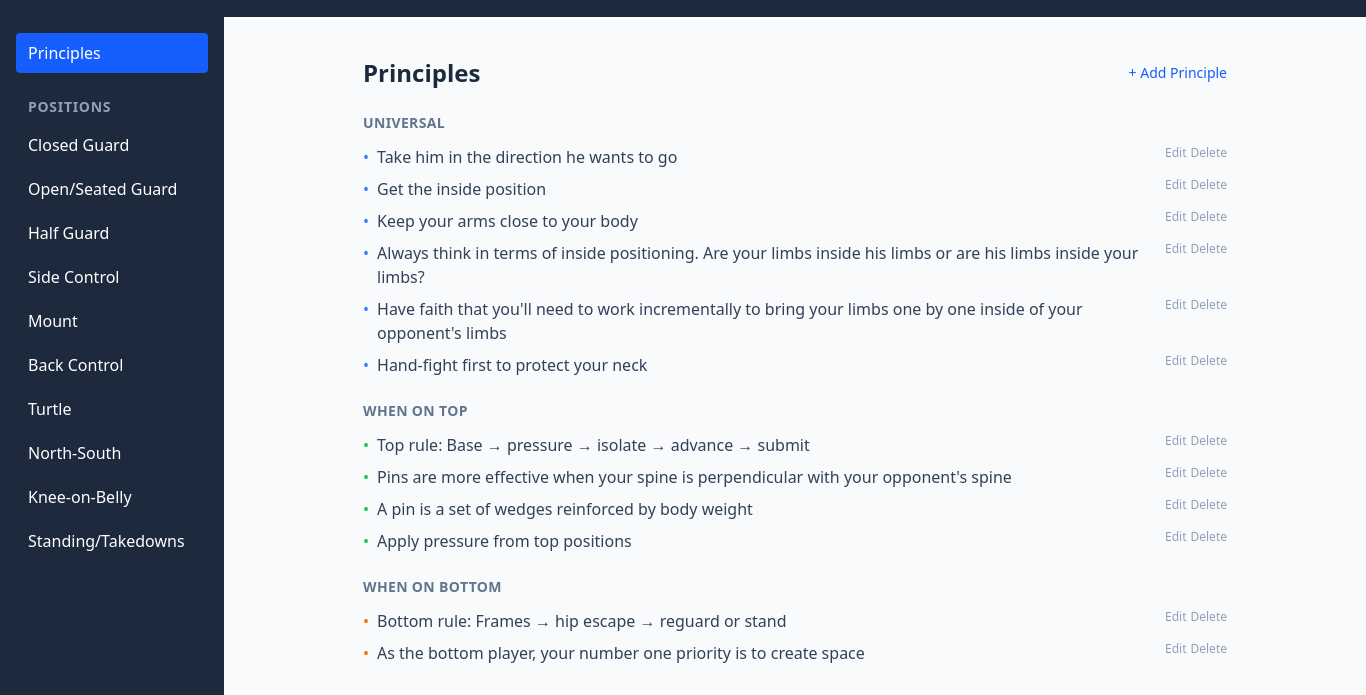
Test: App › adds a technique to a position
The width and height of the screenshot is (1366, 695).
// Go to position view
Click the button "Side Control".
click(112, 277)  # box [16,257,208,297]
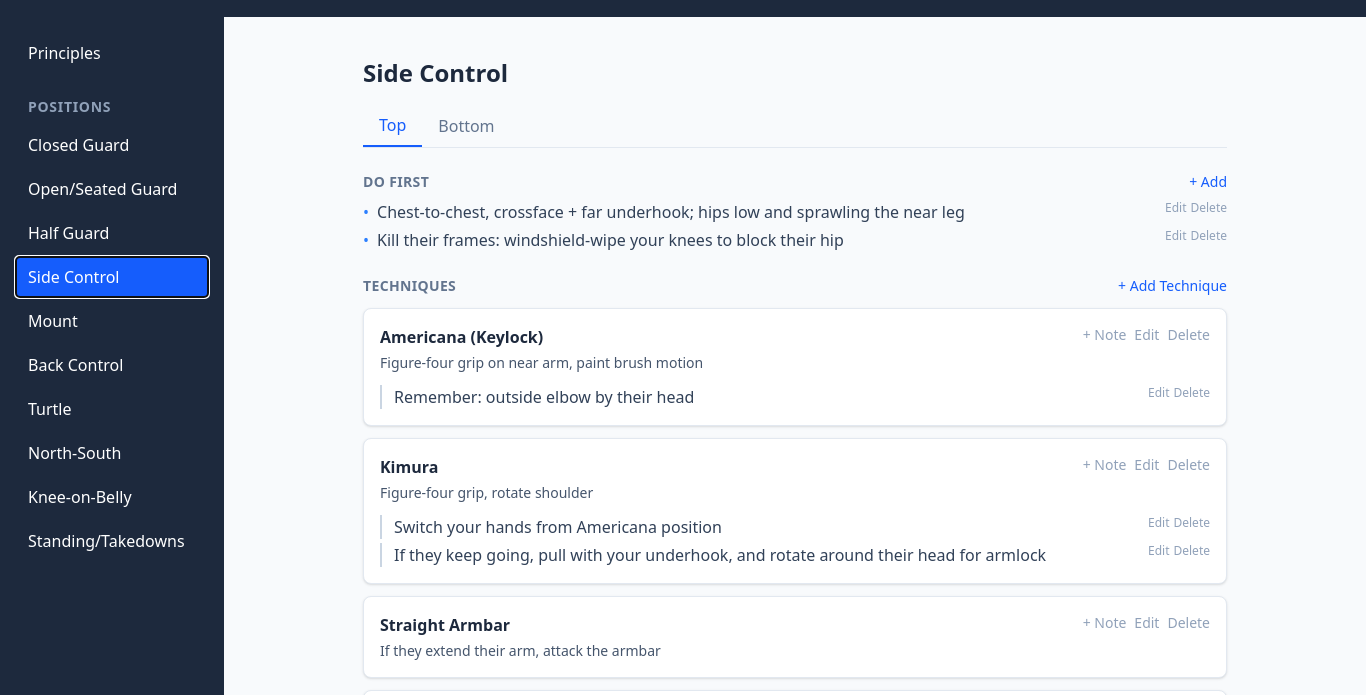
// Add technique
Click the button "+ Add Technique".
click(1172, 286)  # box [1118,276,1227,296]
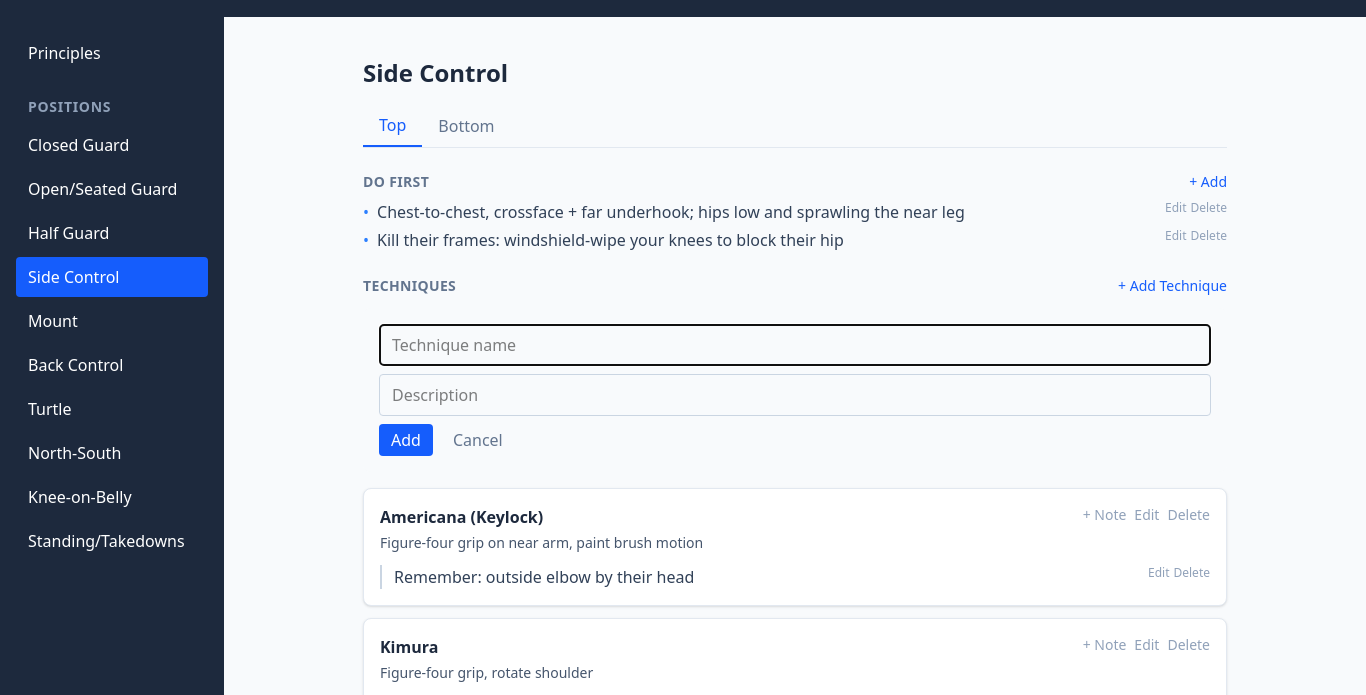
Type "New Submission" into the field with placeholder "Technique name".
click(795, 345); type("New Submission")  # box [379,324,1211,366]
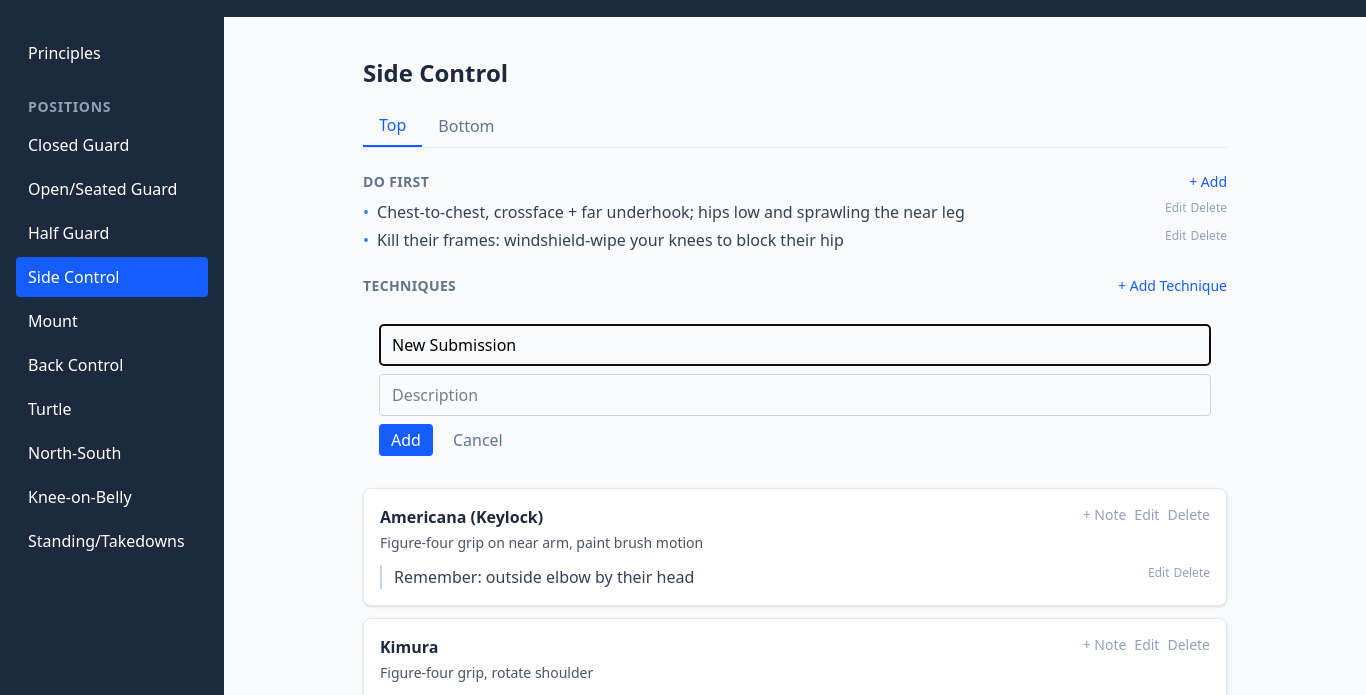
Type "How to apply" into the field with placeholder "Description".
click(795, 395); type("How to apply")  # box [379,374,1211,416]
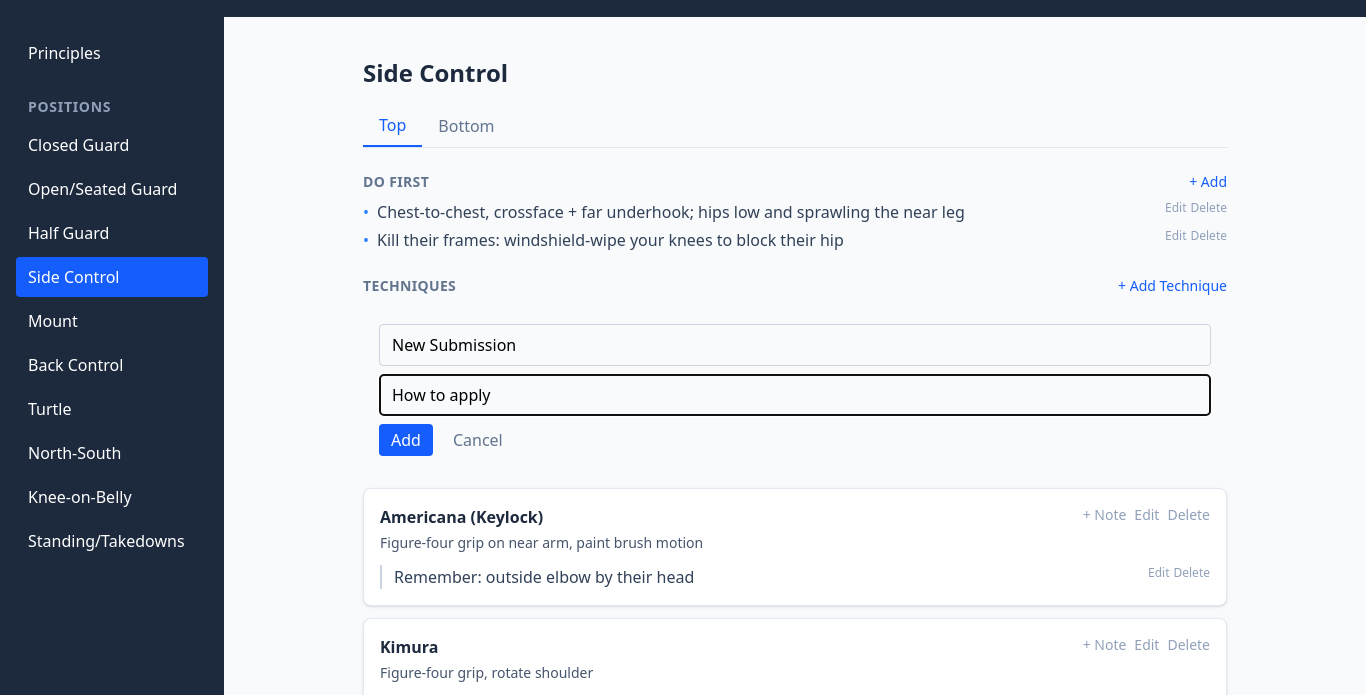
Click the button "Add".
click(406, 440)  # box [379,424,433,456]
(page scrolled)
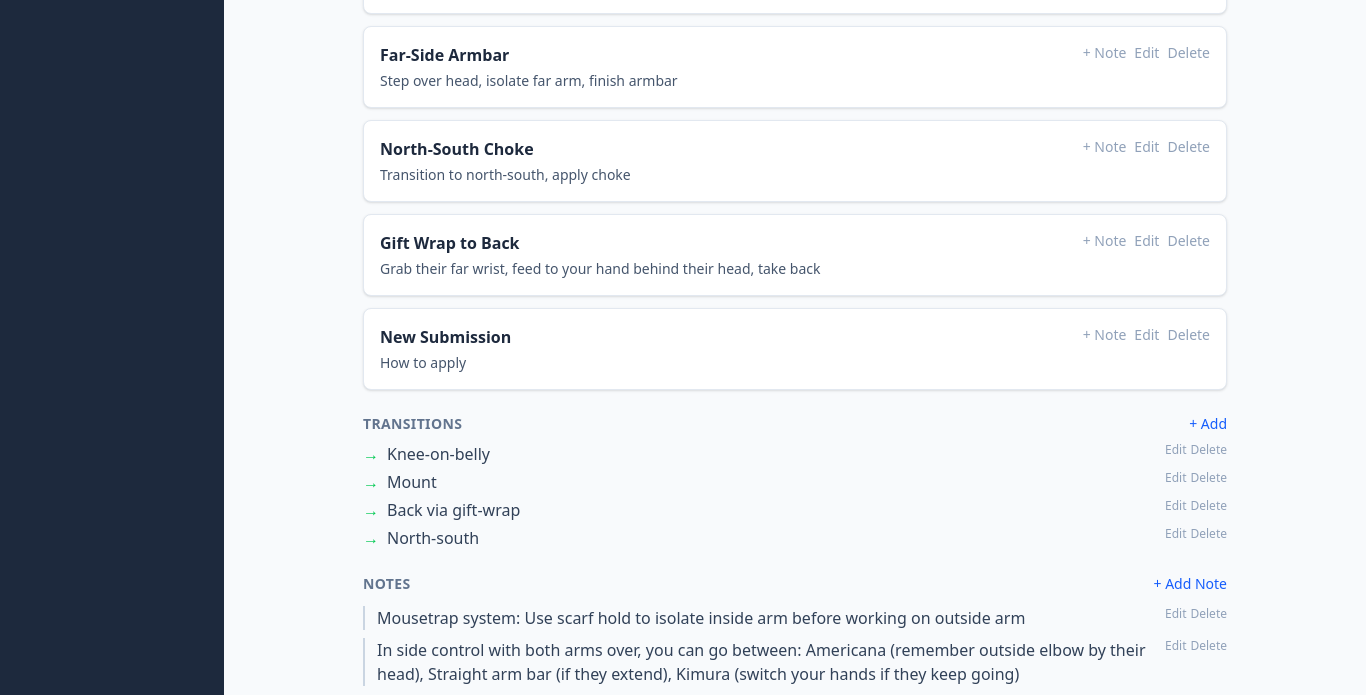
Expected: the heading "New Submission" is shown, [380,326,511,348]
